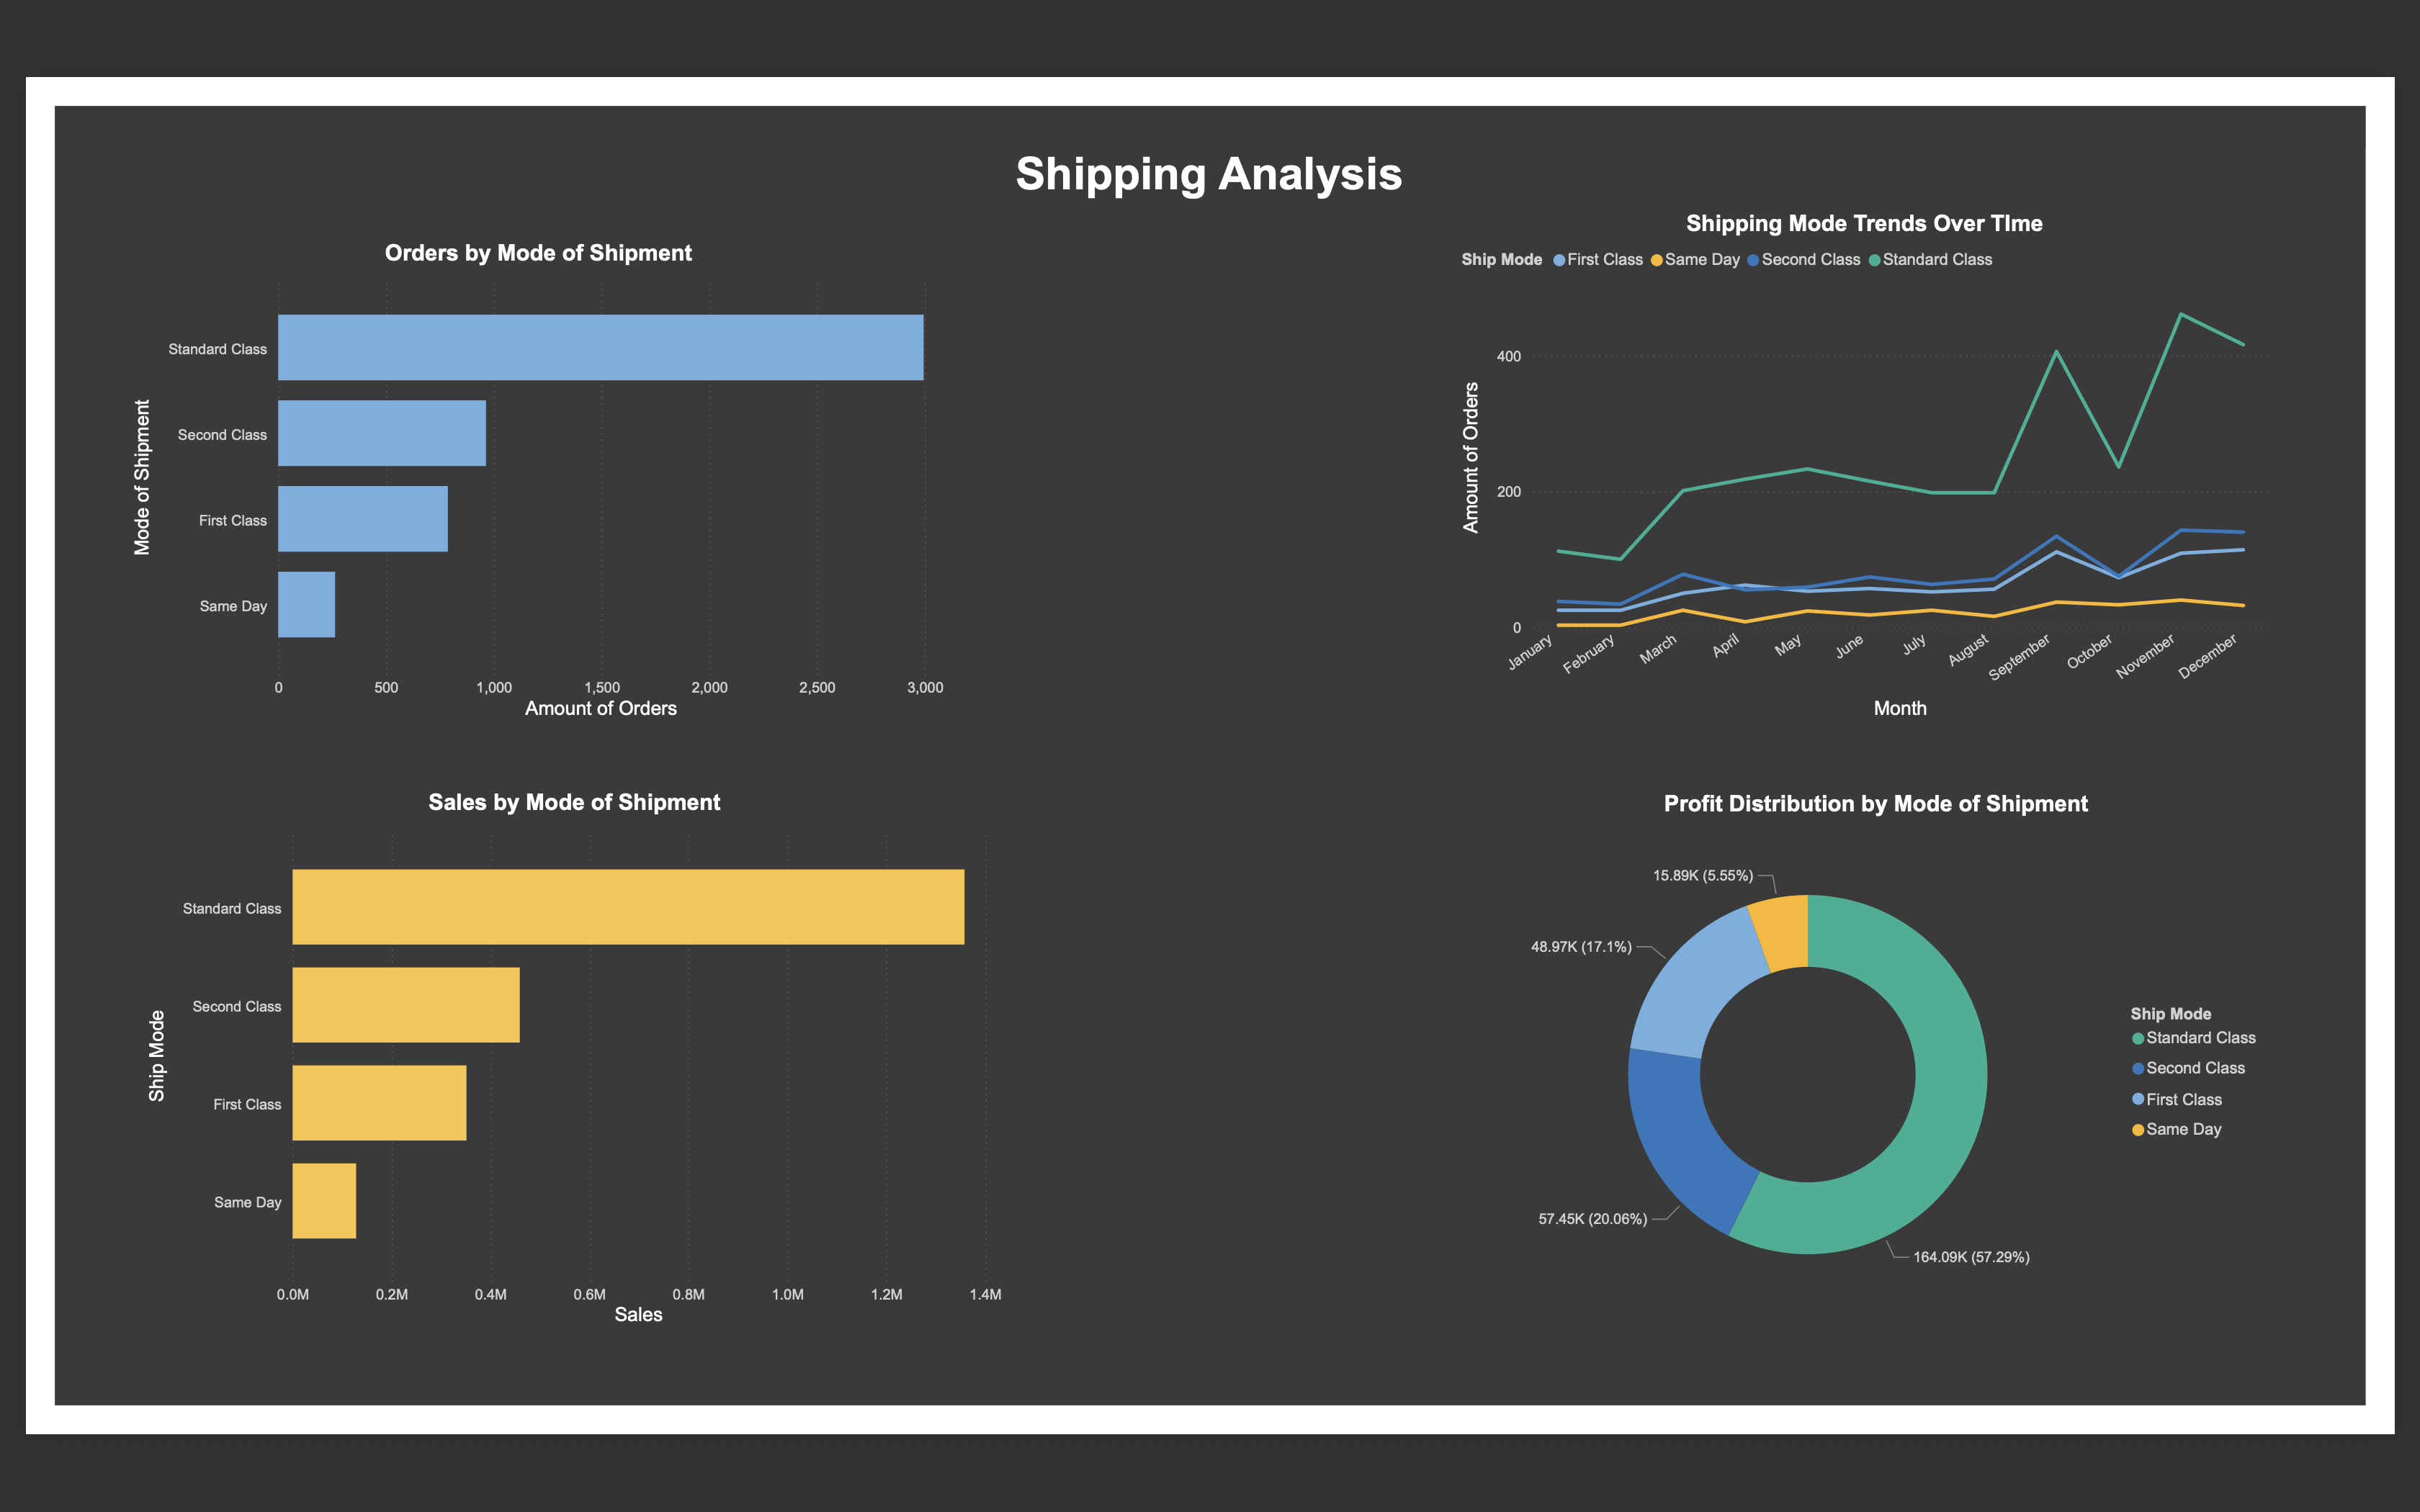

The dashboard page shown, as its layout file describes it:
{"tool":"powerbi","page":{"name":"Shipping Analysis","canvas":[1920,1080],"ordinal":4},"visuals":[{"type":"textbox","box":[725.3,30.1,469,56.9],"z":0},{"type":"clusteredBarChart","title":"Orders by Mode of Shipment","fields":{"Y":["Count(Sample - Superstore 3.Order ID)"],"Category":["Sample - Superstore 3.Ship Mode"]},"box":[60.3,110.5,683.4,403.7],"z":1000},{"type":"clusteredBarChart","title":"Sales by Mode of Shipment","fields":{"Category":["Sample - Superstore 3.Ship Mode"],"Y":["Sum(Sample - Superstore 3.Sales)"]},"box":[72,567.8,720.2,450.6],"z":2000},{"type":"lineChart","title":"Shipping Mode Trends Over TIme","fields":{"Category":["Sample - Superstore 3.Order Date.Variation.Date Hierarchy.Month"],"Series":["Sample - Superstore 3.Ship Mode"],"Y":["Count(Sample - Superstore 3.Order ID)"]},"box":[1164.1,87.1,680,427.1],"z":3000},{"type":"donutChart","title":"Profit Distribution by Mode of Shipment","fields":{"Y":["Sum(Sample - Superstore 3.Profit)"],"Category":["Sample - Superstore 3.Ship Mode"]},"box":[1182.5,569.5,661.6,450.6],"z":4000}]}

Visuals, with their boxes on the page's 1920x1080 design canvas (x1, y1, x2, y2). These are canvas units, not pixel positions in the 2420x1512 screenshot, which may show the page scaled, cropped or inside an application window:
textbox: 725 30 1194 87
"Orders by Mode of Shipment" clusteredBarChart: 60 110 744 514
"Sales by Mode of Shipment" clusteredBarChart: 72 568 792 1018
"Shipping Mode Trends Over TIme" lineChart: 1164 87 1844 514
"Profit Distribution by Mode of Shipment" donutChart: 1182 570 1844 1020
